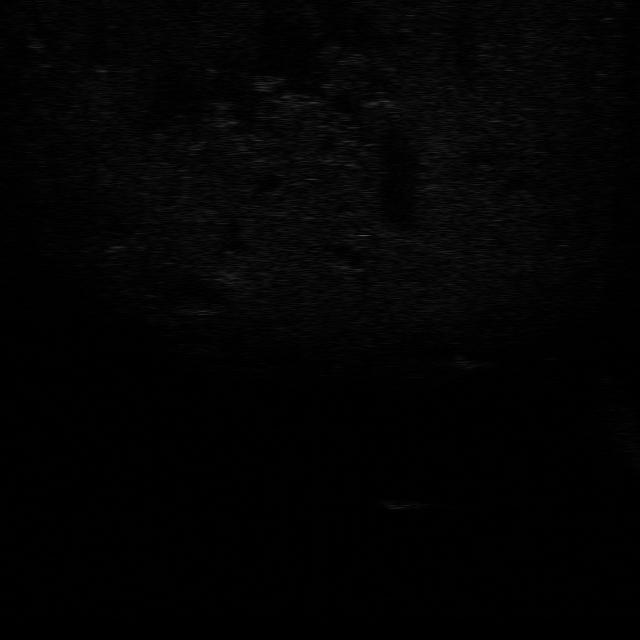cube: (378, 496, 432, 512)
square cage: (450, 352, 488, 369)
